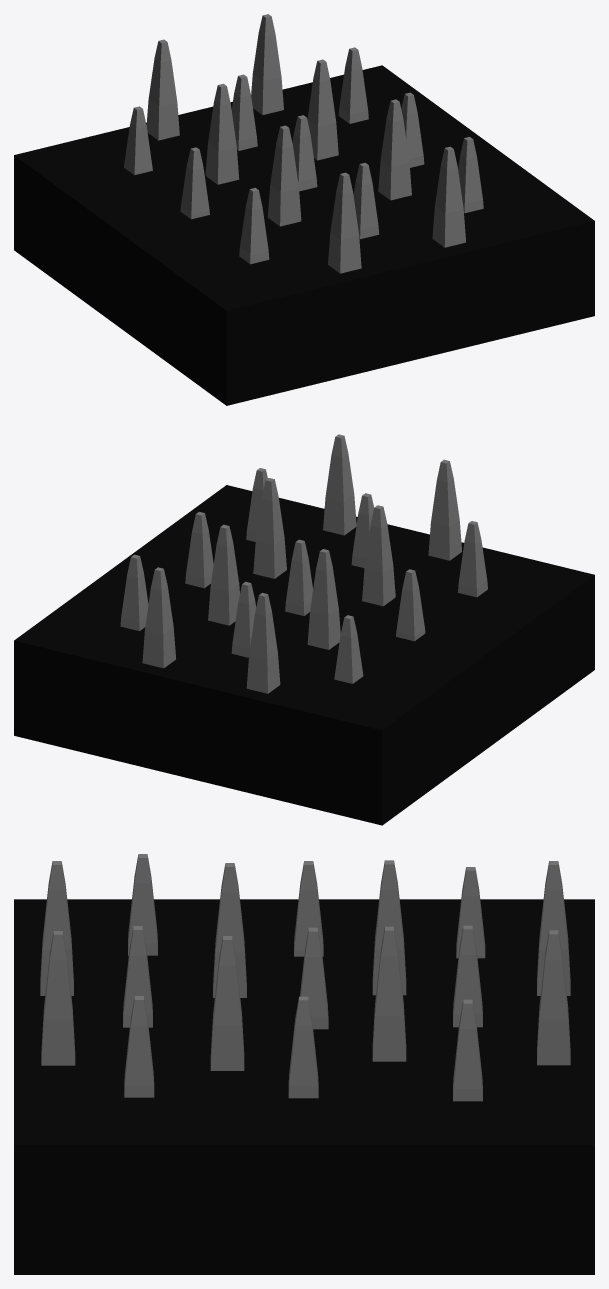
The model's file is Spikes2.fbx.
The picture shows the model from 3 angles, top to bottom: view 1: azimuth 30°, elevation 25°; view 2: azimuth 150°, elevation 25°; view 3: azimuth 270°, elevation 25°; orthographic projection. The views are drawn at different scales.
Parts seen in each view (by area): view 1: Spikes; view 2: Spikes; view 3: Spikes.
Boxes of the visible parts, <box> form: Spikes: <box>14,14,594,405</box>; Spikes: <box>14,434,594,825</box>; Spikes: <box>14,854,594,1274</box>.
Bounding box in the file's own units: 2 × 0.9715 × 2.
